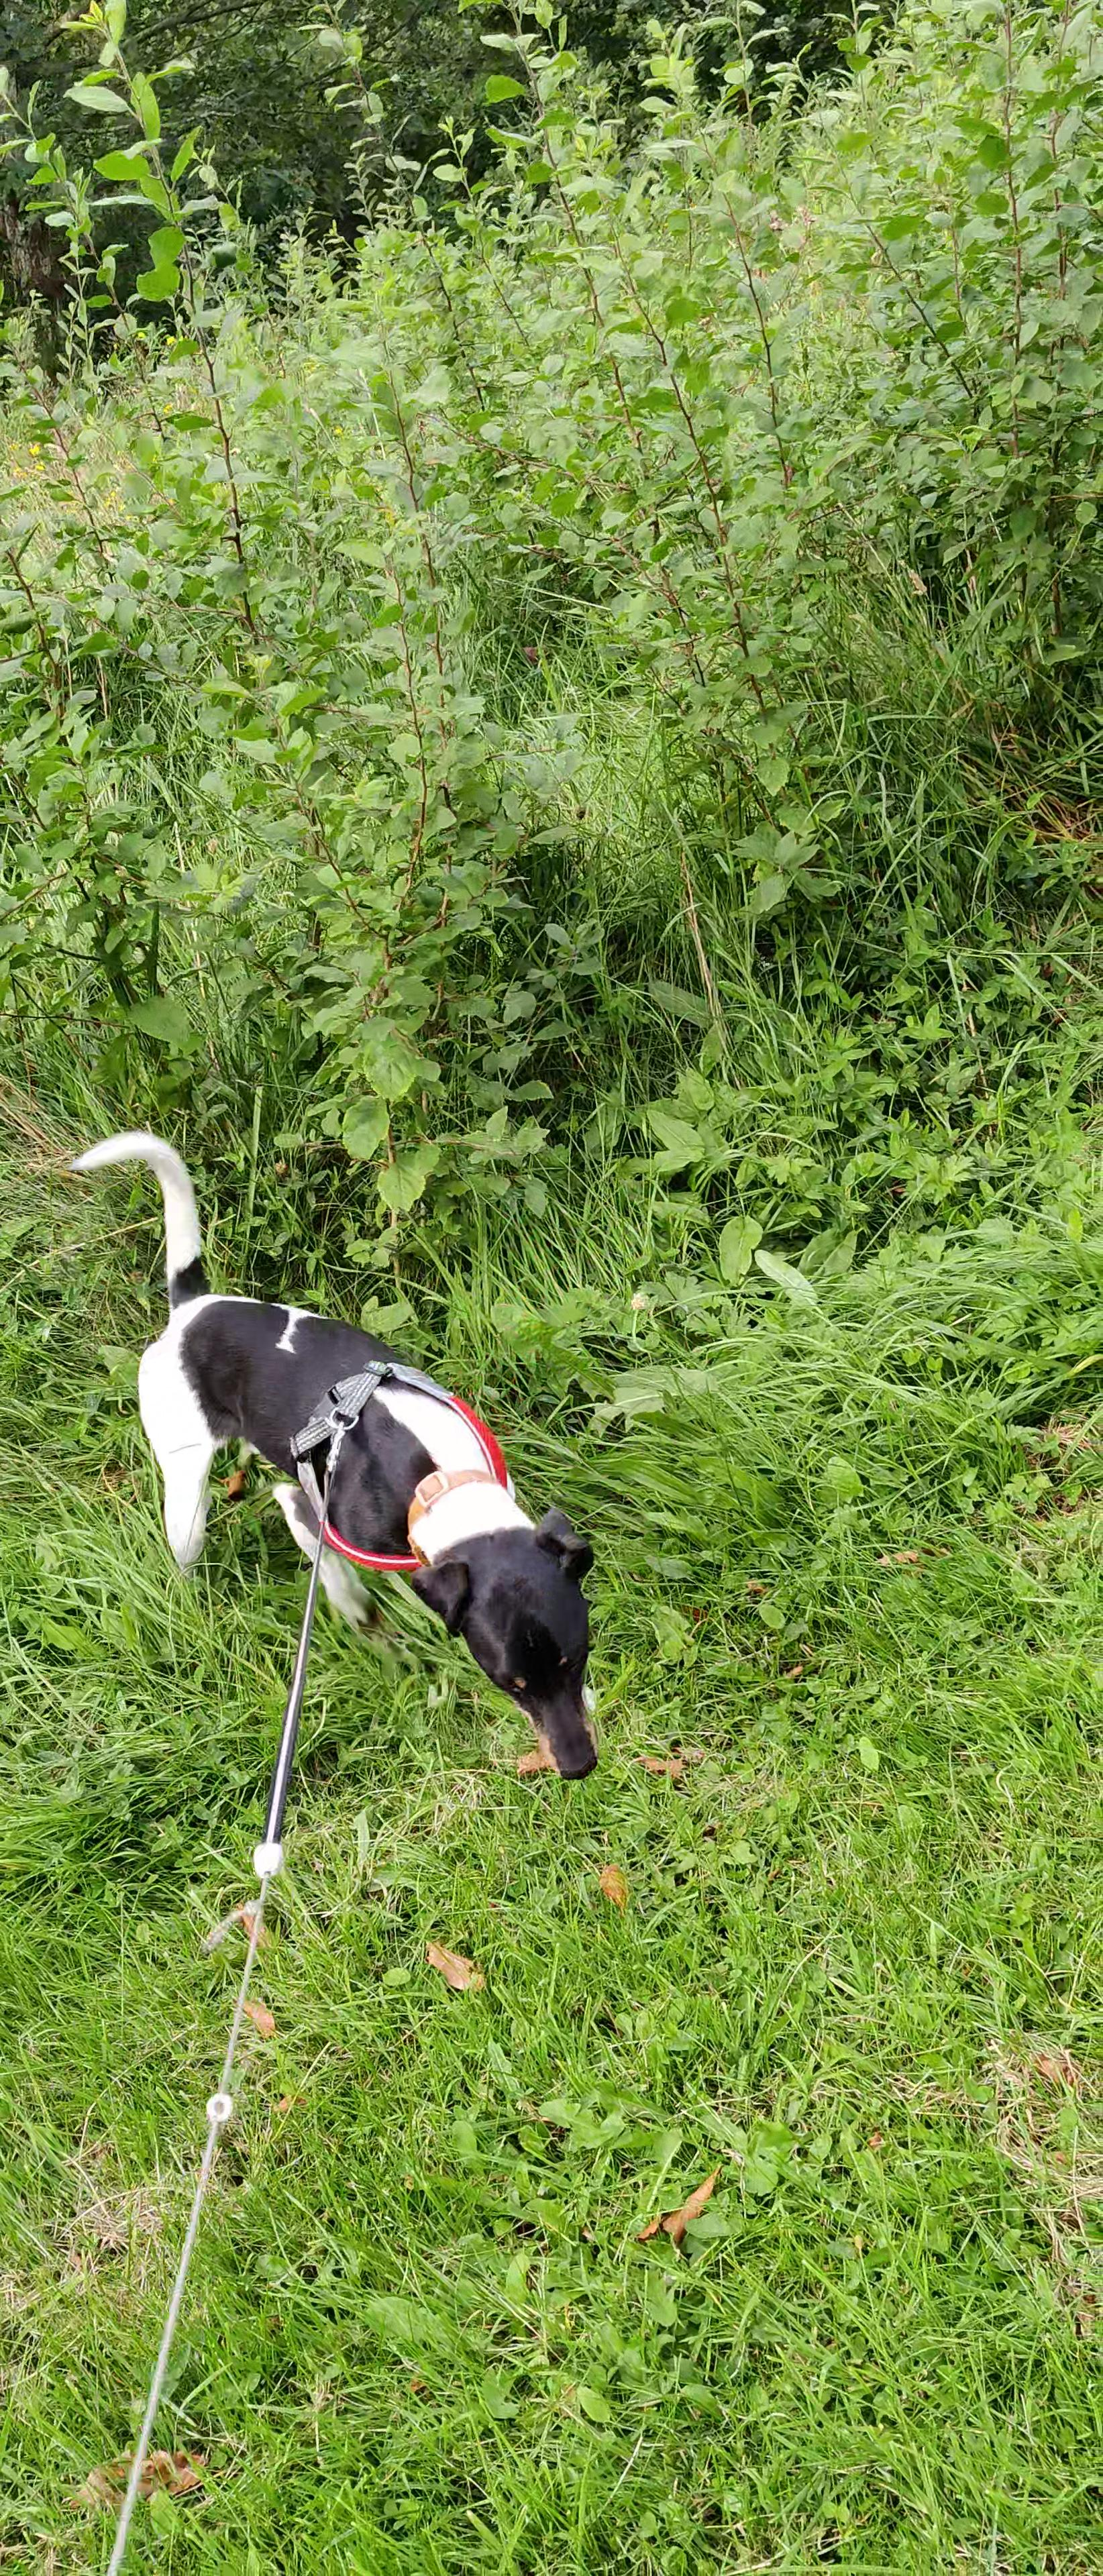Dog: (64, 1124, 610, 1782)
